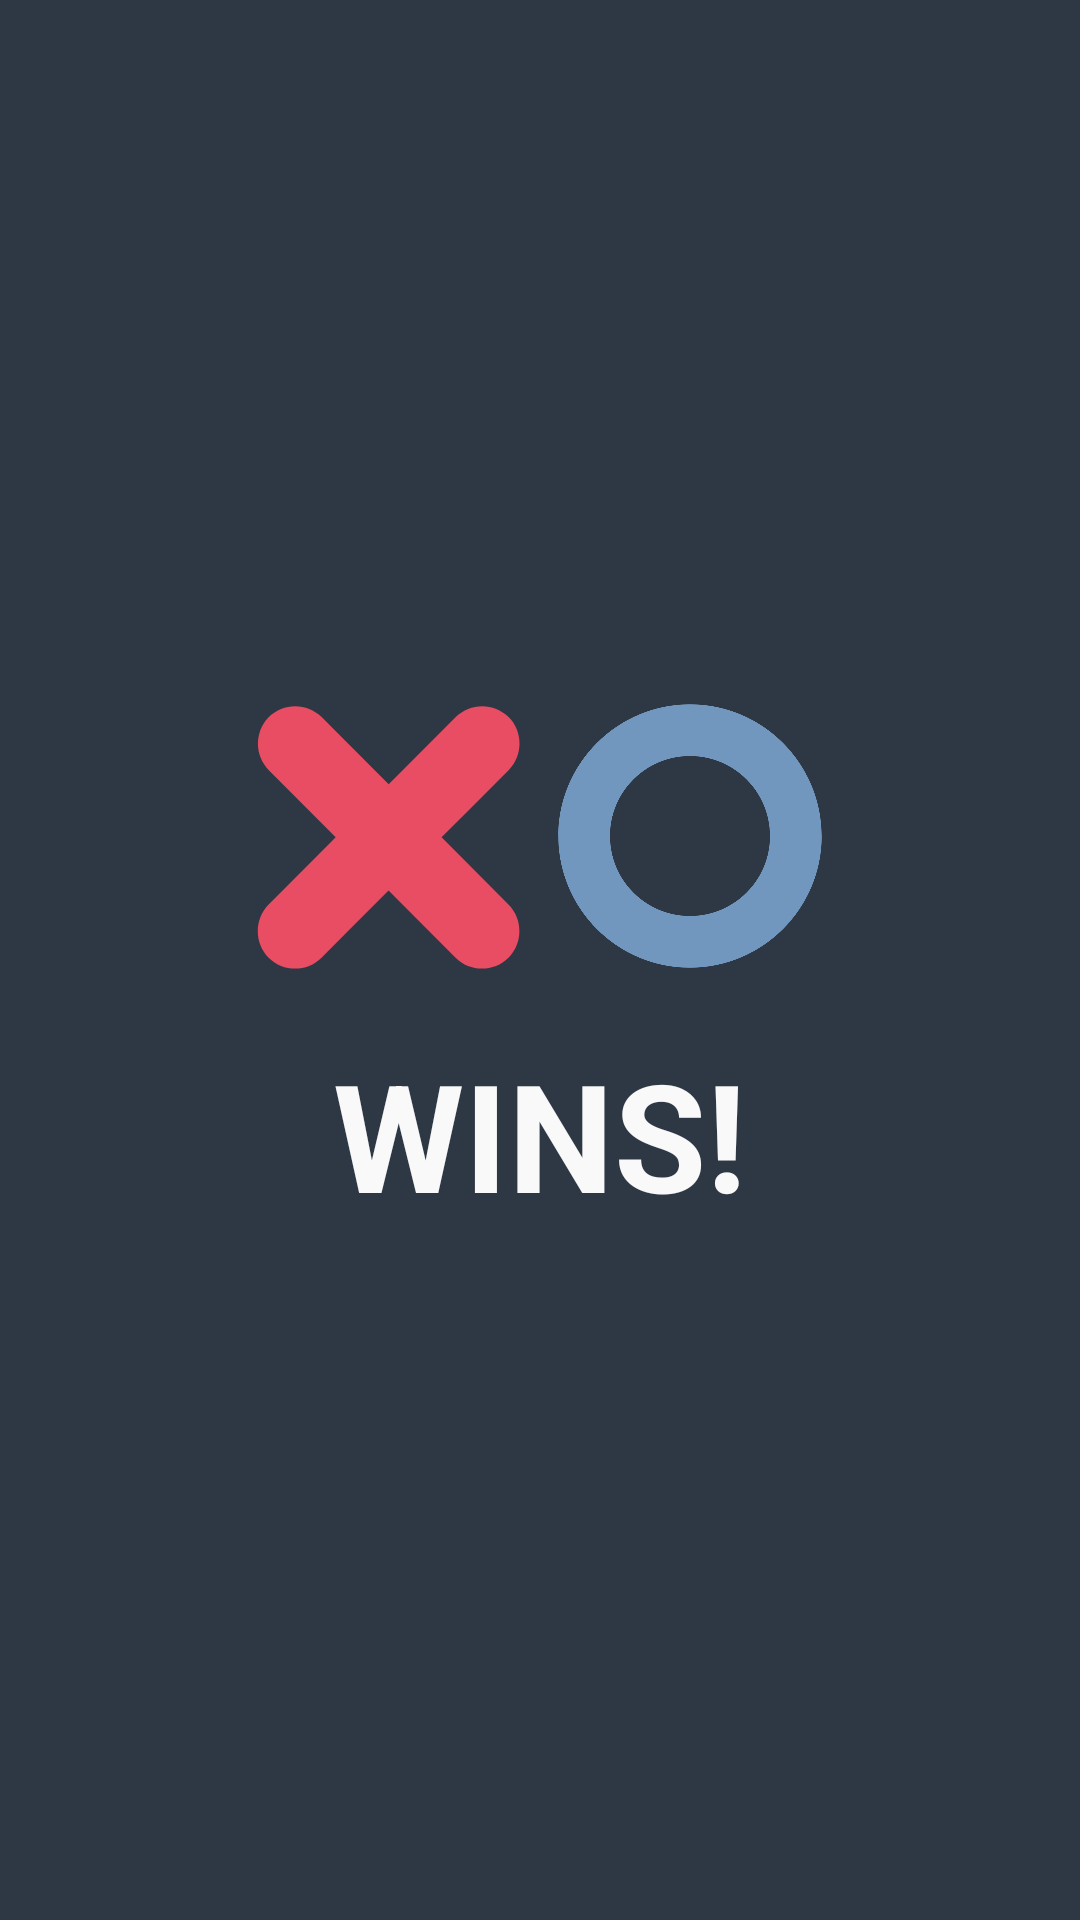

Where icons sit on this 1080 × 1920 app screen, as box=[x1, y1, x2, y2]:
circle: box=[558, 704, 822, 968]
cross: box=[257, 706, 520, 969]
